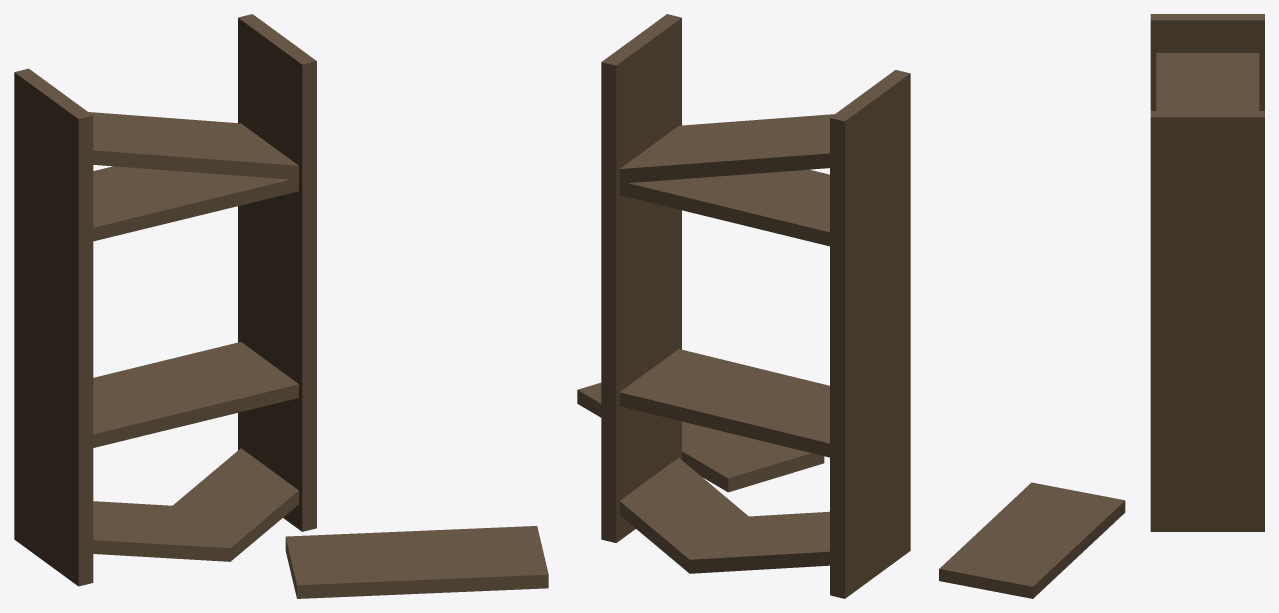
The model's file is SD_Prop_Shelf_04.fbx.
3 renders of one model, left to right at view 1: azimuth 30°, elevation 25°; view 2: azimuth 150°, elevation 25°; view 3: azimuth 270°, elevation 25°, orthographic. The views are drawn at different scales.
Visible parts, largest first — view 1: SD_Prop_Shelf_04; view 2: SD_Prop_Shelf_04; view 3: SD_Prop_Shelf_04.
Part boxes in pixels (x1,y1,x2,y2): SD_Prop_Shelf_04: [14, 14, 548, 598]; SD_Prop_Shelf_04: [577, 14, 910, 598]; SD_Prop_Shelf_04: [939, 14, 1264, 598].
Size of the model in its own units: 2.72 by 3.2 by 2.2.
